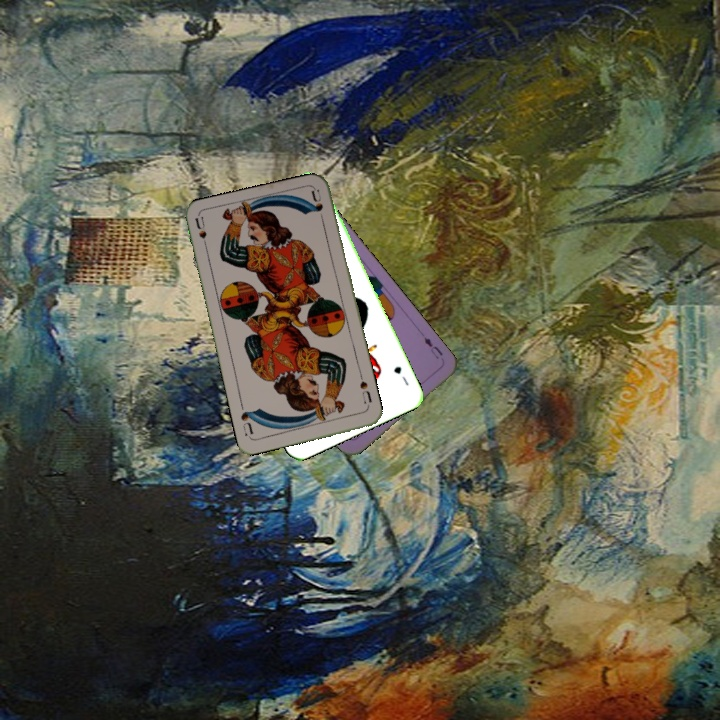EU: (420, 333, 445, 362)
GU: (389, 362, 411, 389)
SU: (191, 214, 211, 255), (356, 377, 374, 411)
